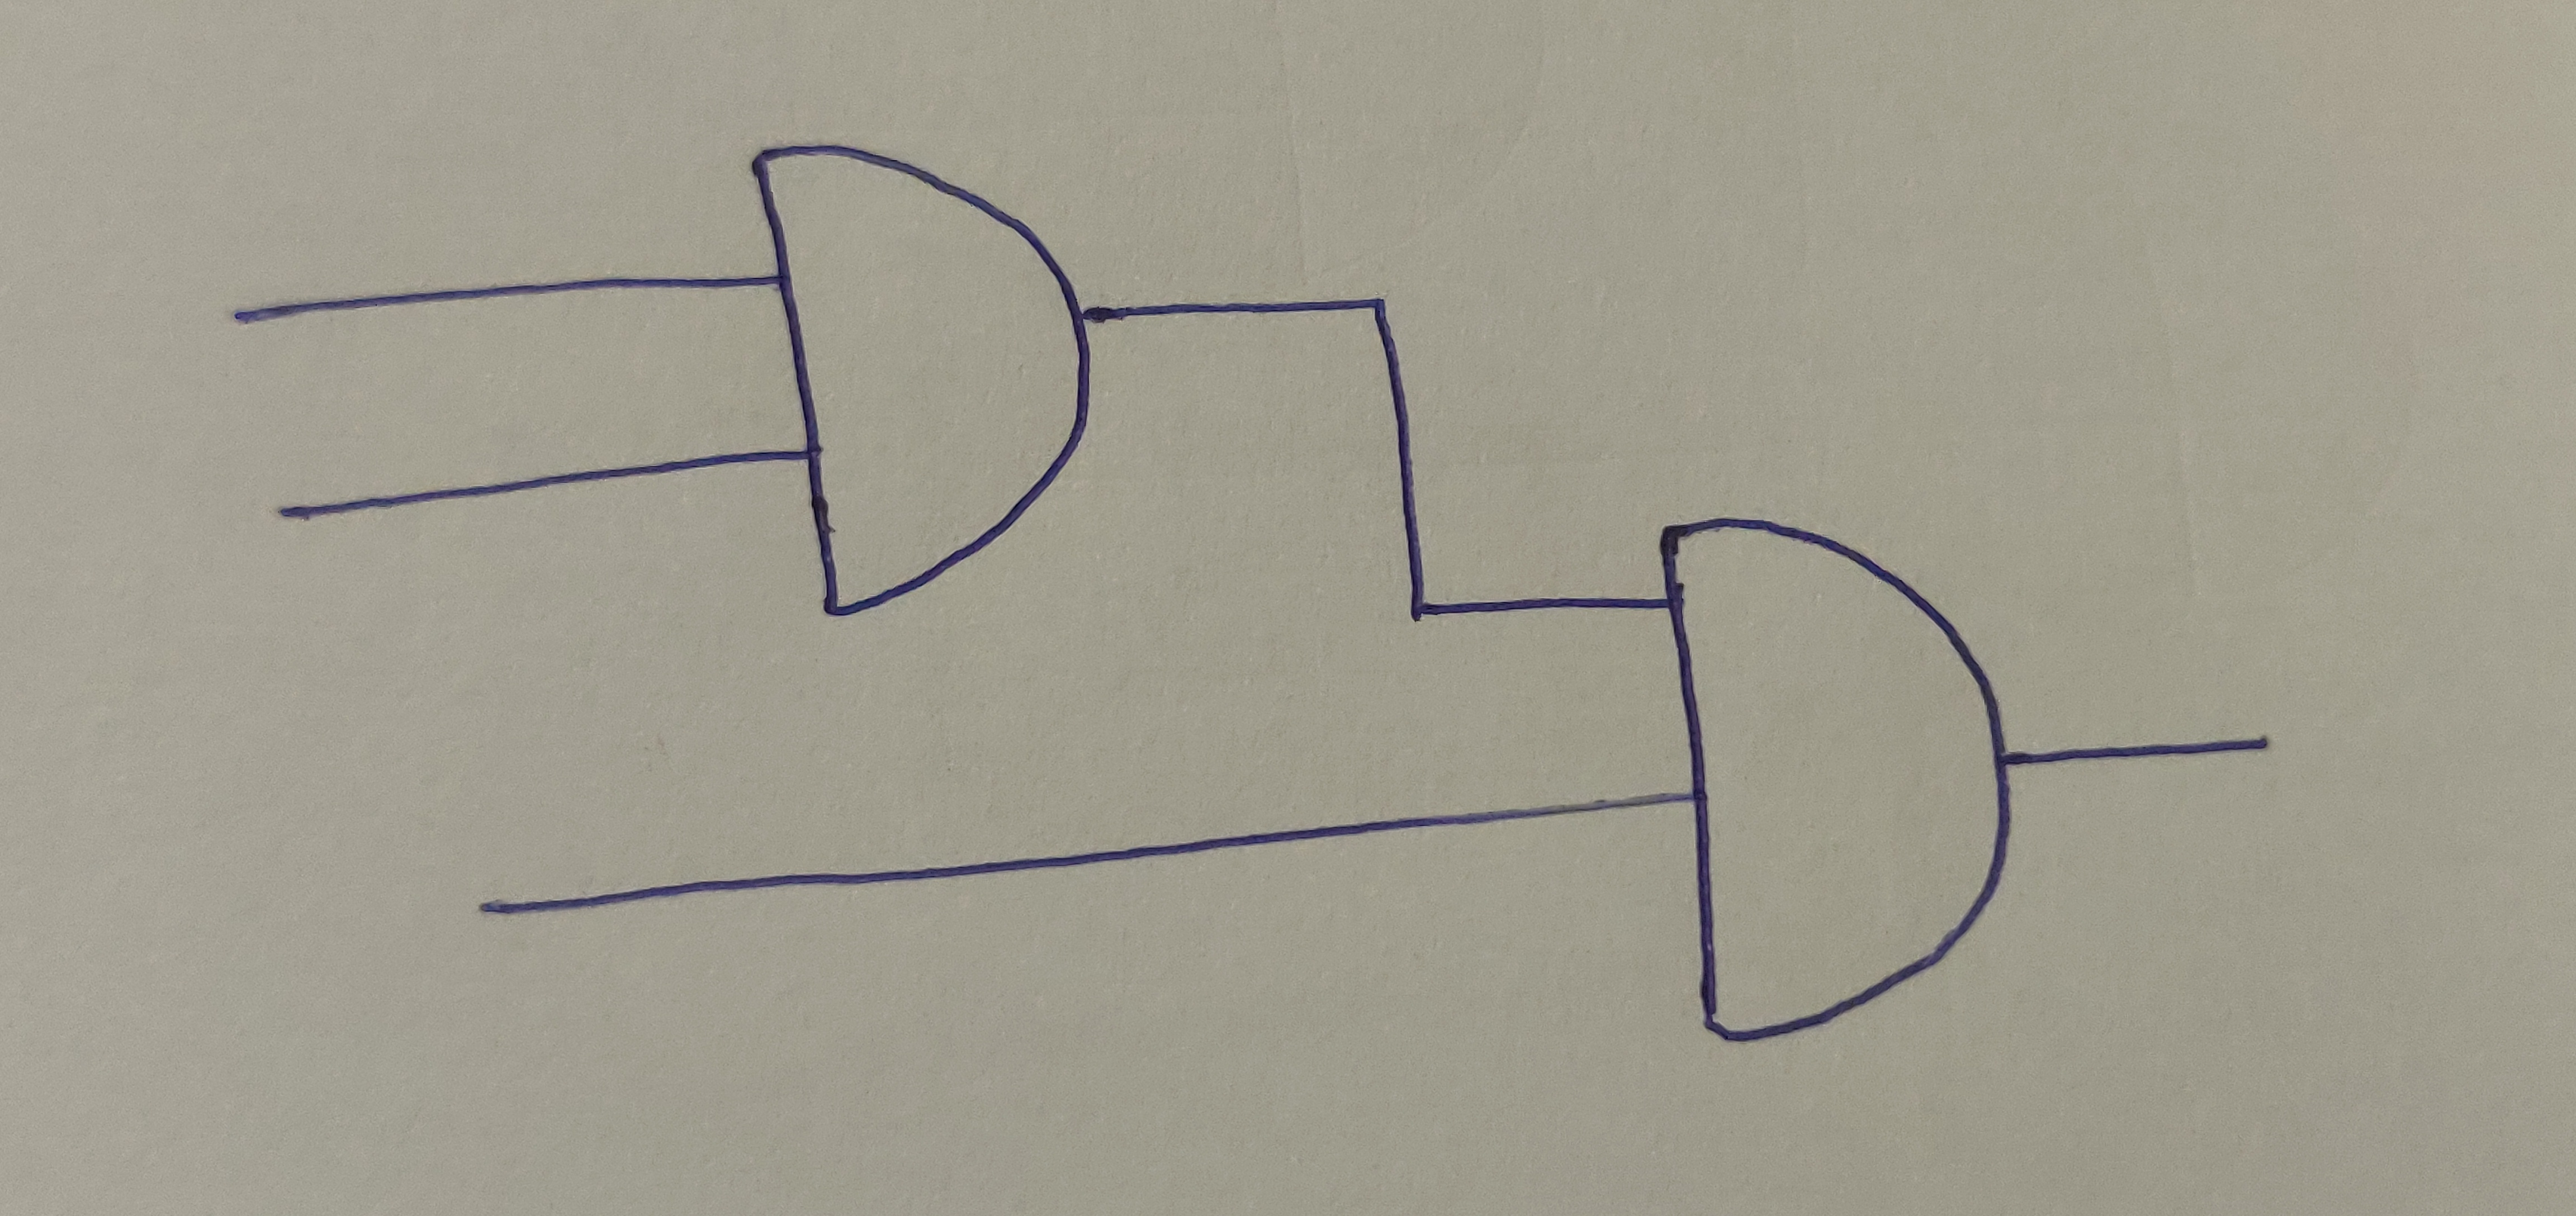and: (1653, 513, 2016, 1043), (743, 143, 1094, 618)
